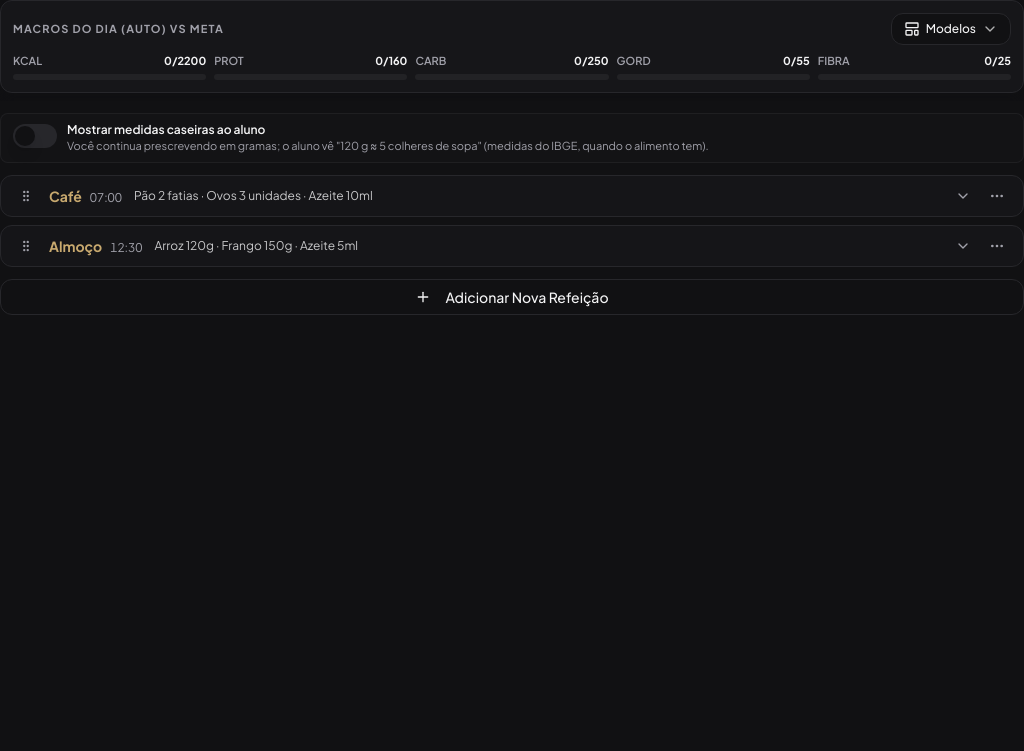
Aba Dieta enxuta › substituição opcional só pelo menu ⋯ do alimento
This screenshot has width=1024, height=751.
Click the button with test id "meal-summary-1" at (76, 246), box [45,232,943,260]
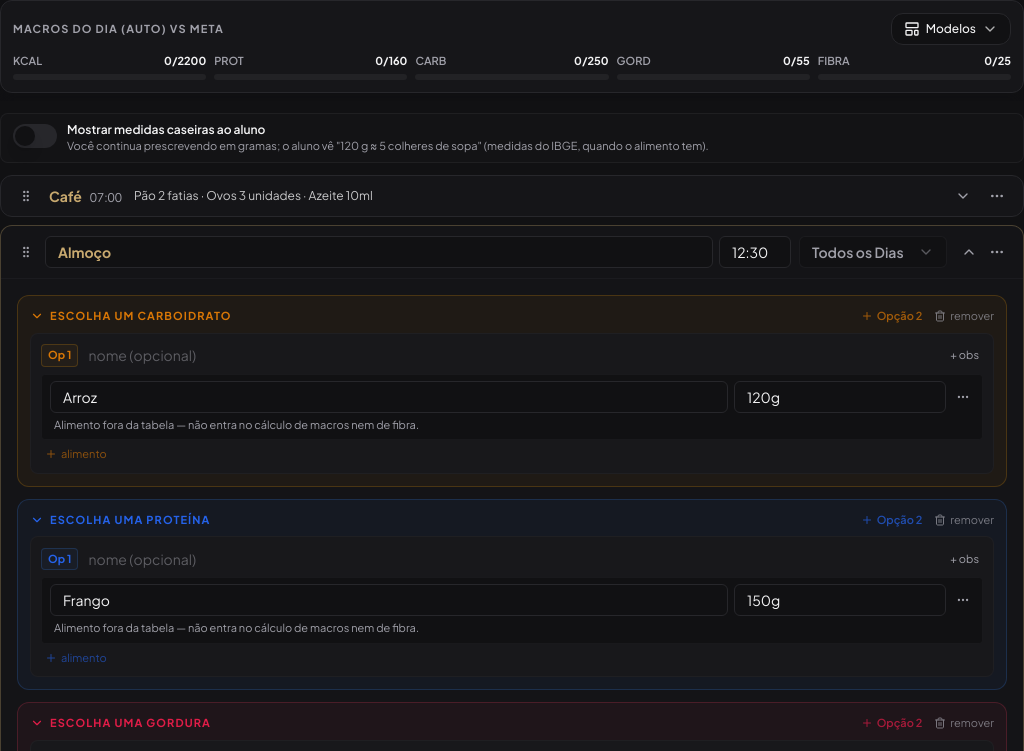
Expected: the text "substituição opcional" is not shown
Click the button with test id "food-1-carb-0-0-menu" at (963, 396), box [952,386,974,408]
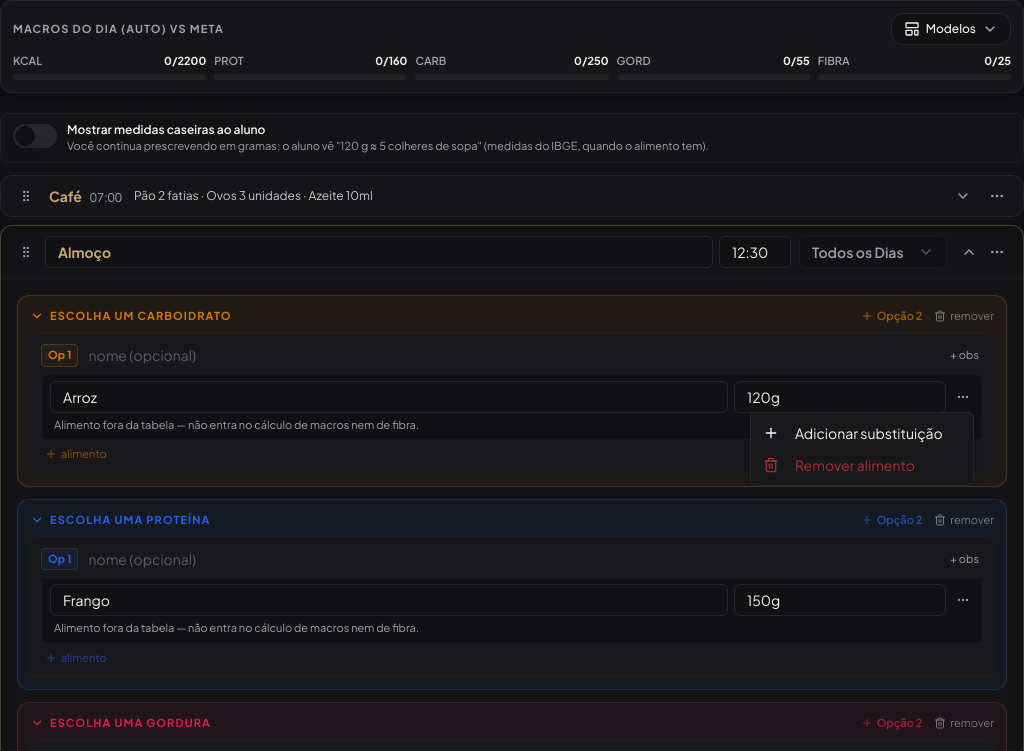
Click the menu item "Adicionar substituição" at (853, 433), box [763,424,943,442]
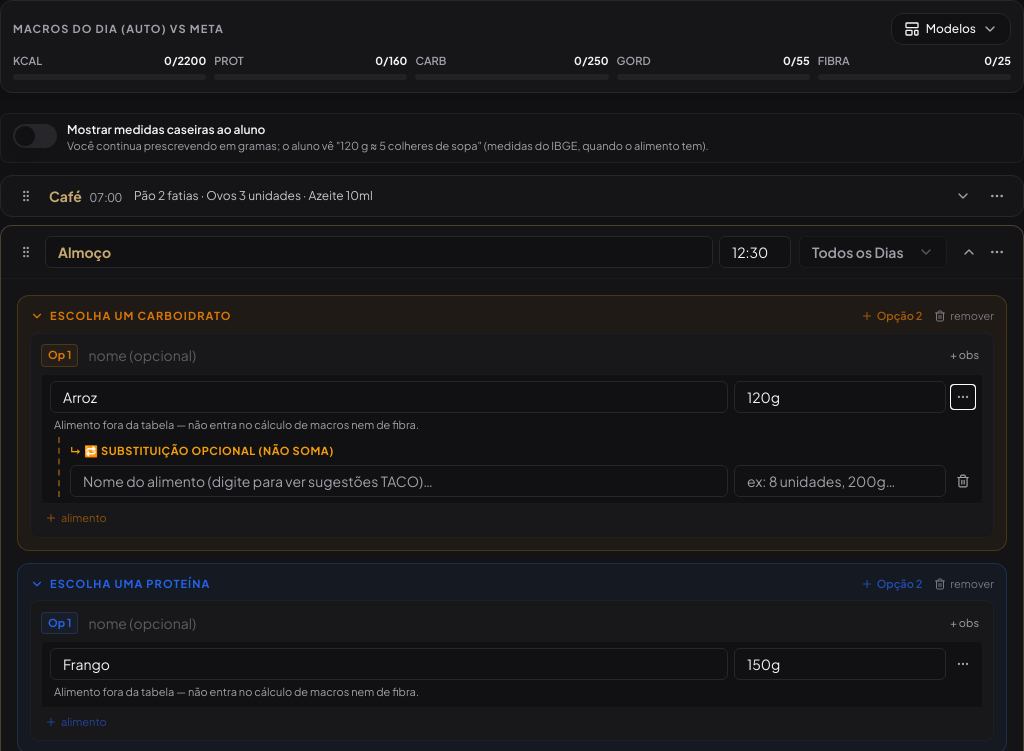
Now the text "↳ 🔁 Substituição opcional (não soma)" is shown, box [70,444,334,457]
